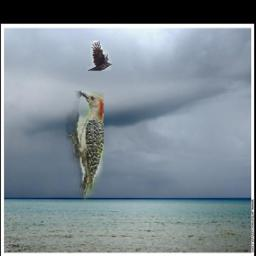Crow: (88, 41, 113, 72)
Woodpecker: (66, 92, 104, 203)
